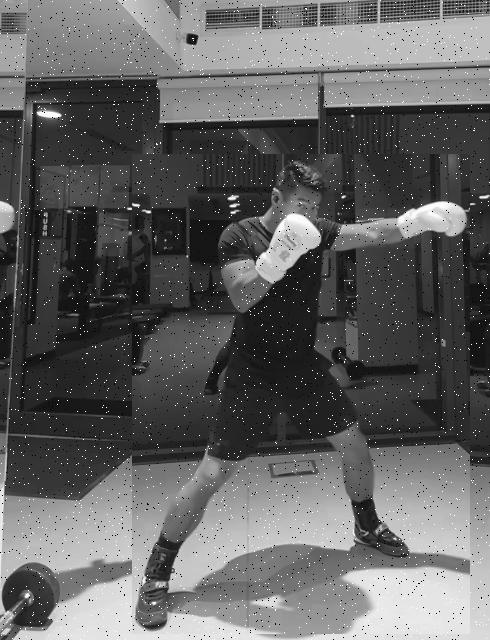punch: (132, 154, 470, 634)
